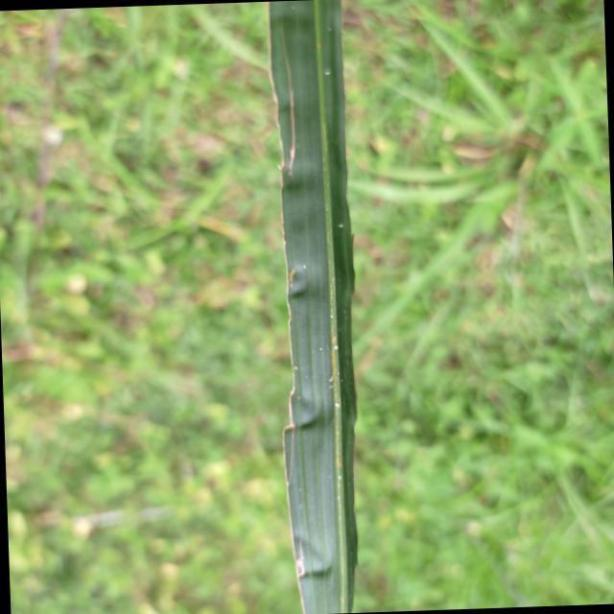Boron: (267, 0, 360, 614)
